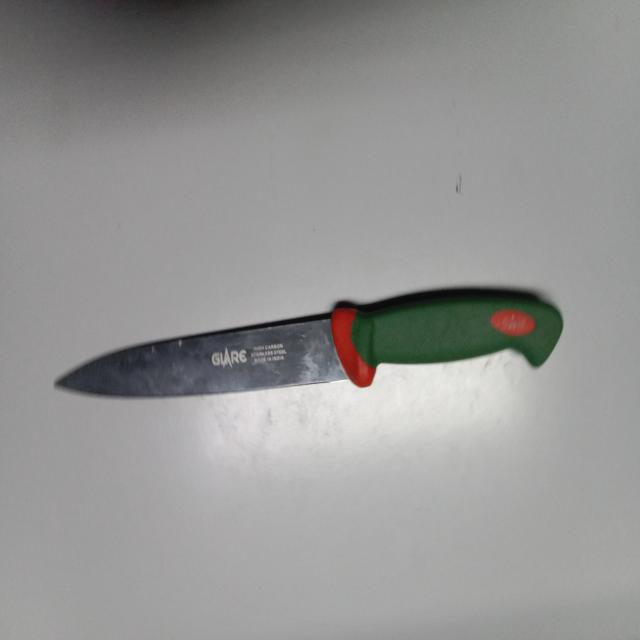Knife: (55, 288, 564, 397)
